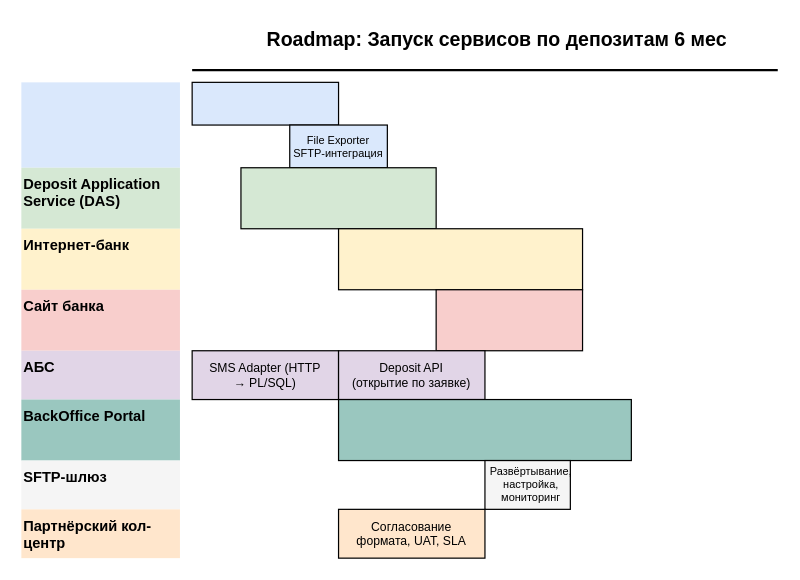
Image size: 800x580. Some labels were removed from this diagram. Here are the shapes that lost their labels. From the top down, the centre of each, then its label:
At point (265, 103): "API + UI управления ставками".
At point (100, 124): "Сервис управления ставками".
At point (338, 198): "API + БД заявок, интеграция со ставками".
At point (460, 259): "Форма заявки СМС-верификация вызов DAS".
At point (509, 320): "Страница ставок форма заявки (новые клиенты)".
At point (484, 429): "Web UI + интеграция с DAS и АБС".
